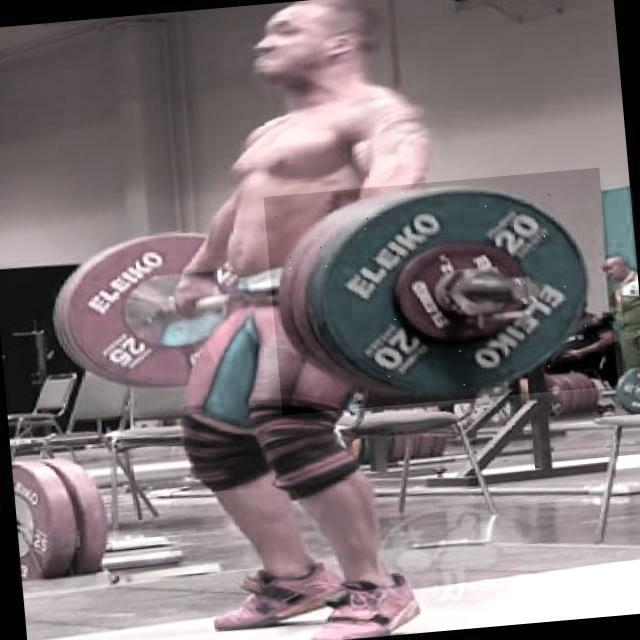barbell: (263, 168, 619, 415)
